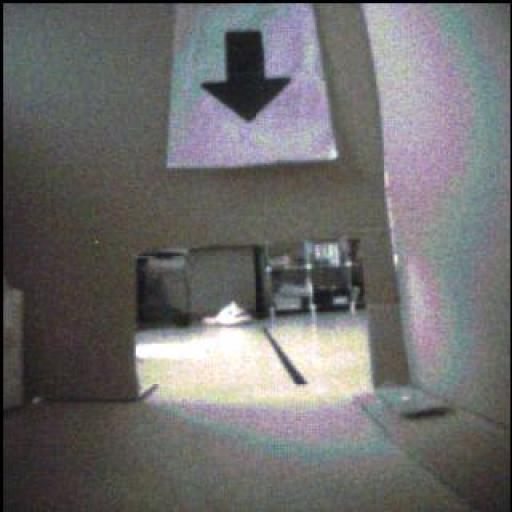arrow: (203, 32, 291, 123)
